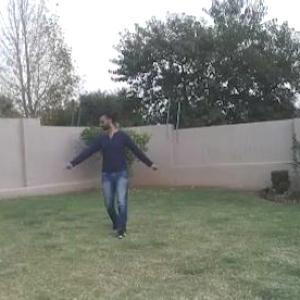land: (51, 92, 162, 244)
